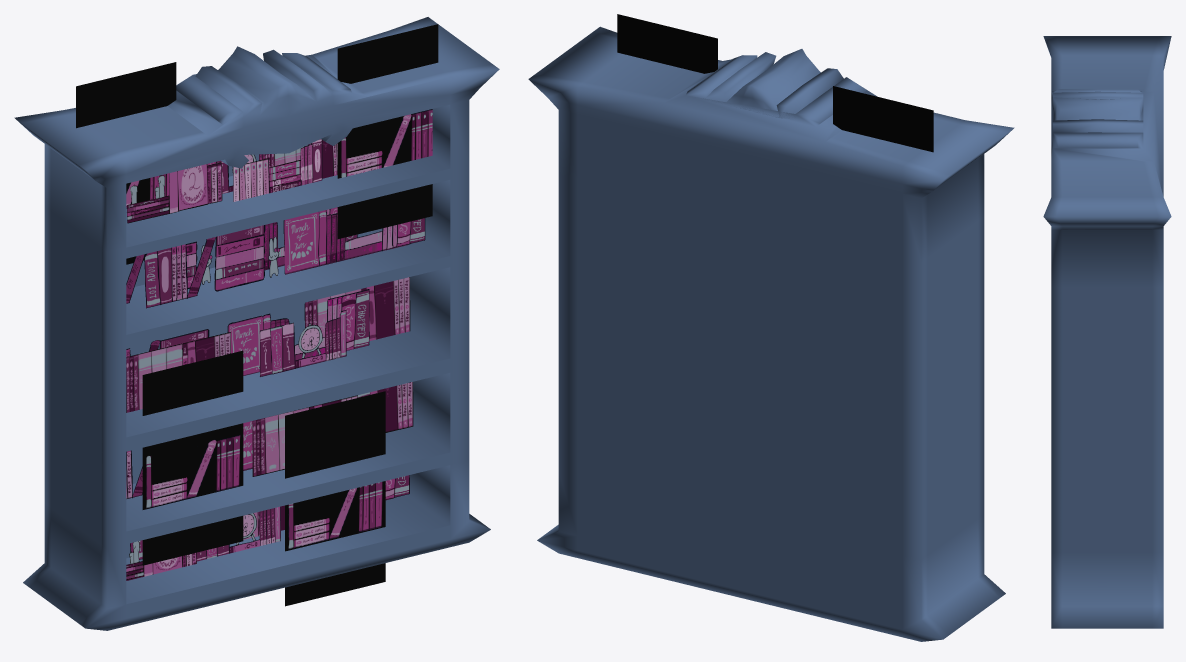
Rendered from bookshelf.fbx.
The picture shows the model from 3 angles, left to right: view 1: azimuth 30°, elevation 25°; view 2: azimuth 150°, elevation 25°; view 3: azimuth 270°, elevation 25°; orthographic projection. The views are drawn at different scales.
Visible parts, largest first — view 1: BOOKROWSHELF, BOOKROWS; view 2: BOOKROWSHELF, BOOKROWS; view 3: BOOKROWSHELF.
Part boxes in pixels (<box>): BOOKROWSHELF: <box>14,17,499,630</box>; BOOKROWS: <box>76,24,438,606</box>; BOOKROWSHELF: <box>528,26,1014,641</box>; BOOKROWS: <box>617,14,933,152</box>; BOOKROWSHELF: <box>1043,36,1171,628</box>.
Bounding box in the file's own units: 500 × 643 × 150.
Materials: 7 (6 with a texture image).
